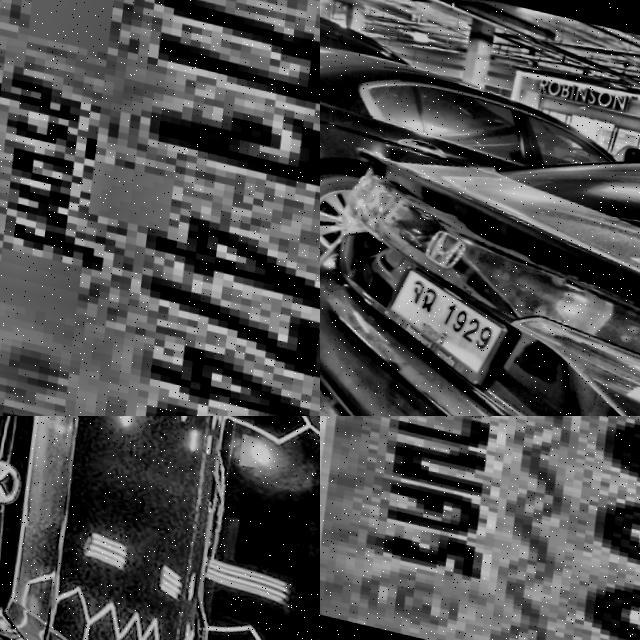license-plate: (0, 0, 320, 416), (320, 416, 640, 640), (334, 106, 459, 190)
